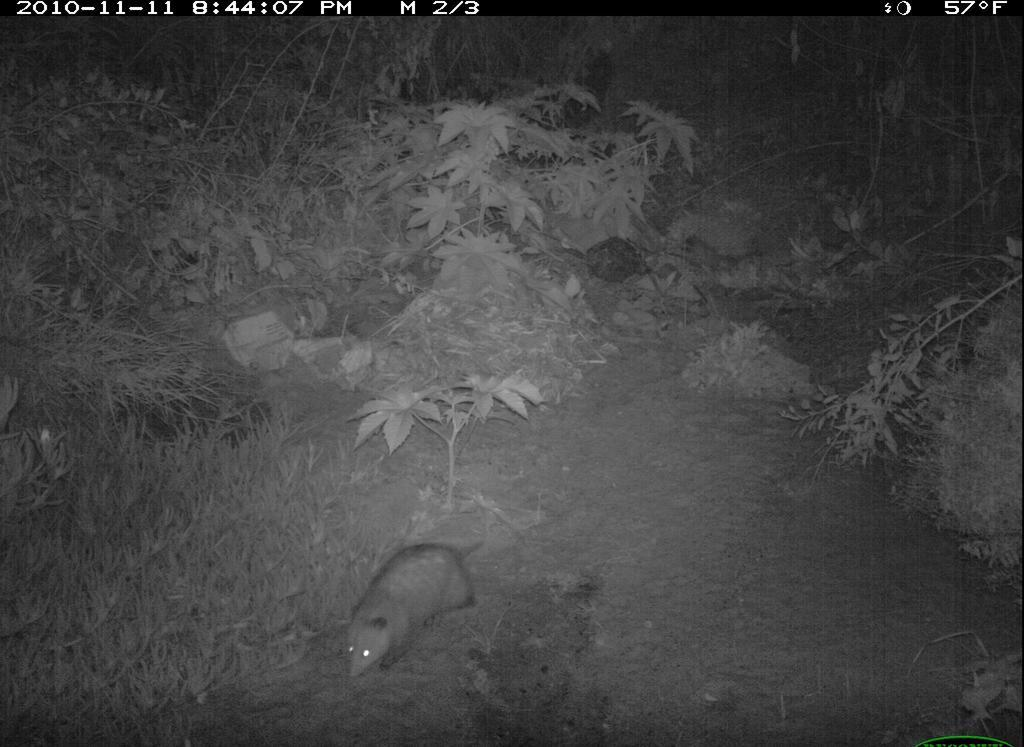opossum: (342, 536, 482, 676)
